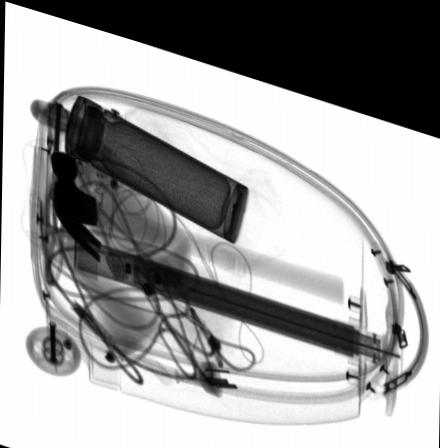Hammer: (48, 146, 342, 284)
